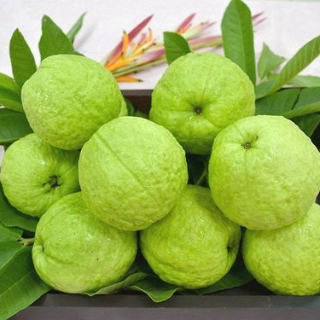oi: (207, 114, 320, 229), (79, 117, 187, 228), (22, 55, 118, 147)
